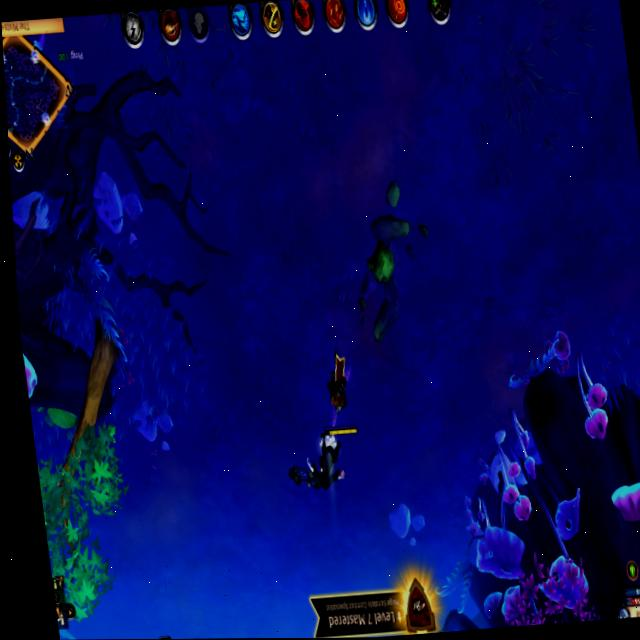red: (311, 342, 362, 441)
stone: (312, 432, 341, 456)
tree: (342, 168, 448, 347)
wisp caged: (18, 303, 163, 628)
